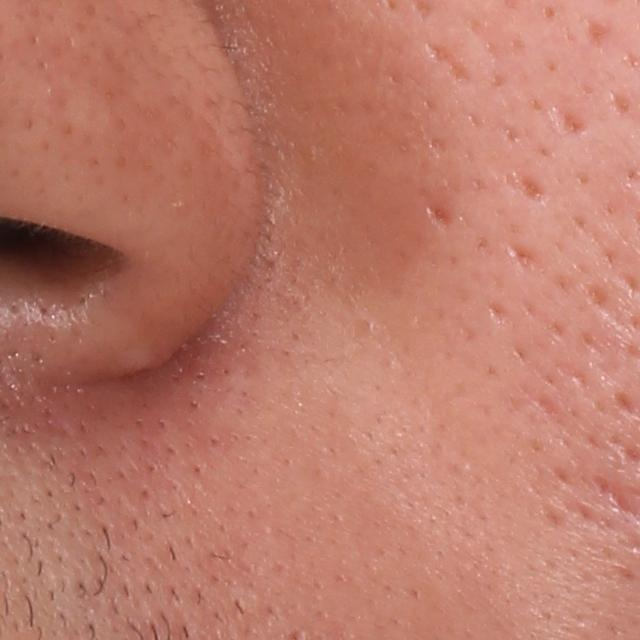atrophic_scar: (424, 40, 478, 89), (416, 188, 460, 236), (506, 166, 552, 208), (550, 106, 593, 139), (507, 237, 542, 272)
